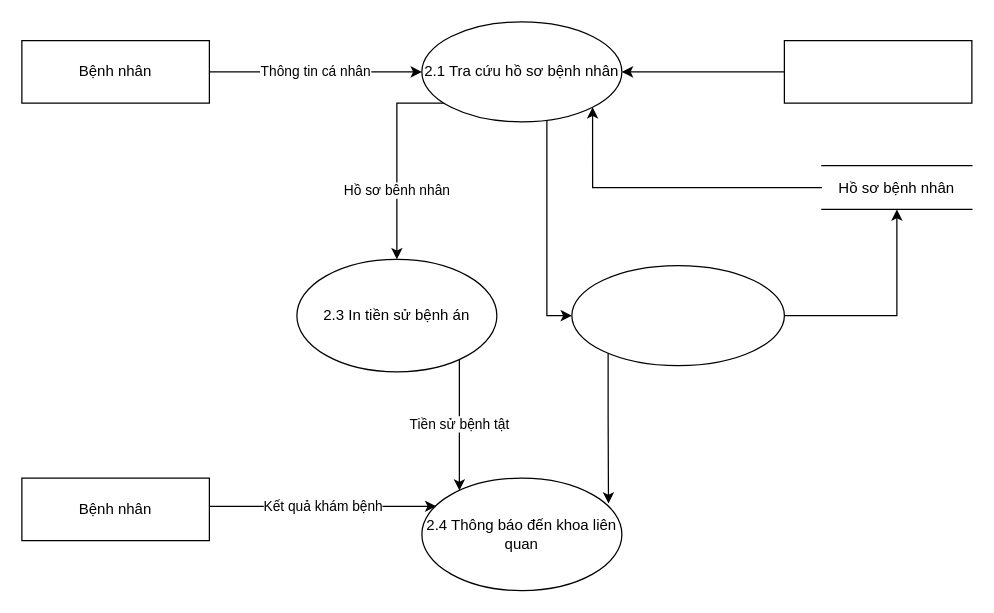
This 994x613 diagram has some shape labels left out. The shapes that lost their labels are listed below. From the top down, each one's centre as x and y in pixels, then its label:
At [877,71]: "Bộ phận tiếp nhận".
At [677,315]: "2.2 Lập hồ sơ bệnh nhân".
